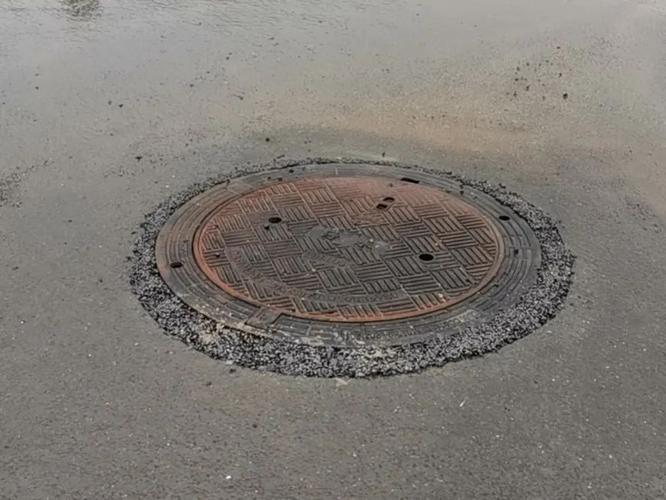good: (125, 136, 590, 395)
